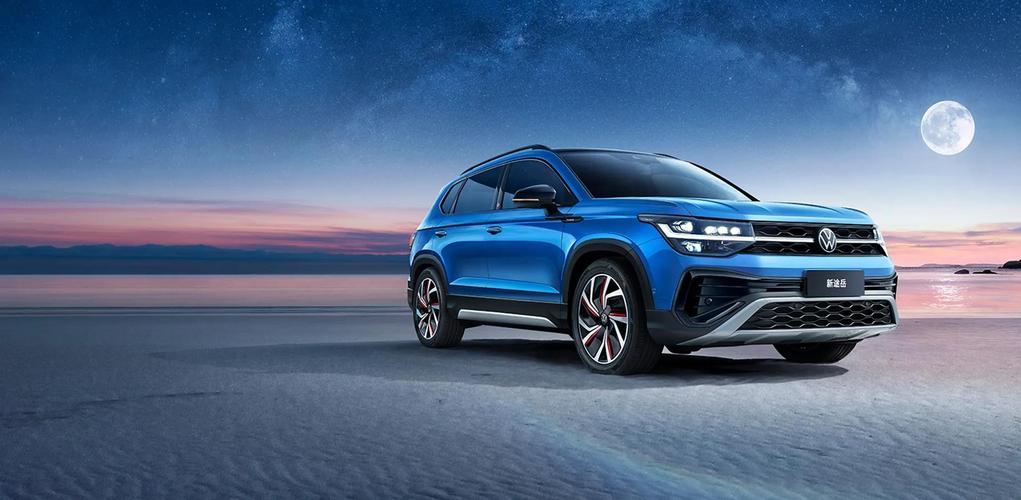汽车: (397, 141, 910, 388)
